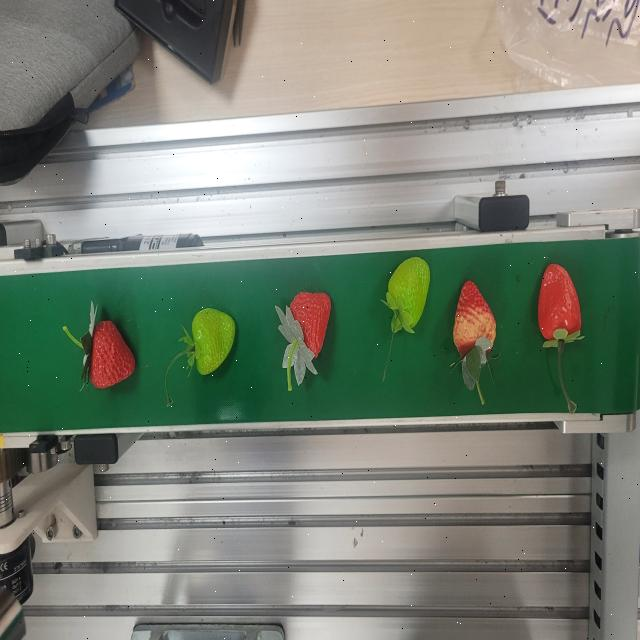Moldy Strawberry: (452, 276, 502, 378)
Small Ripe Strawberry: (276, 283, 334, 385), (76, 301, 138, 395), (536, 262, 592, 350)
Small Unripe Strawberry: (182, 298, 242, 386), (382, 258, 434, 343)
